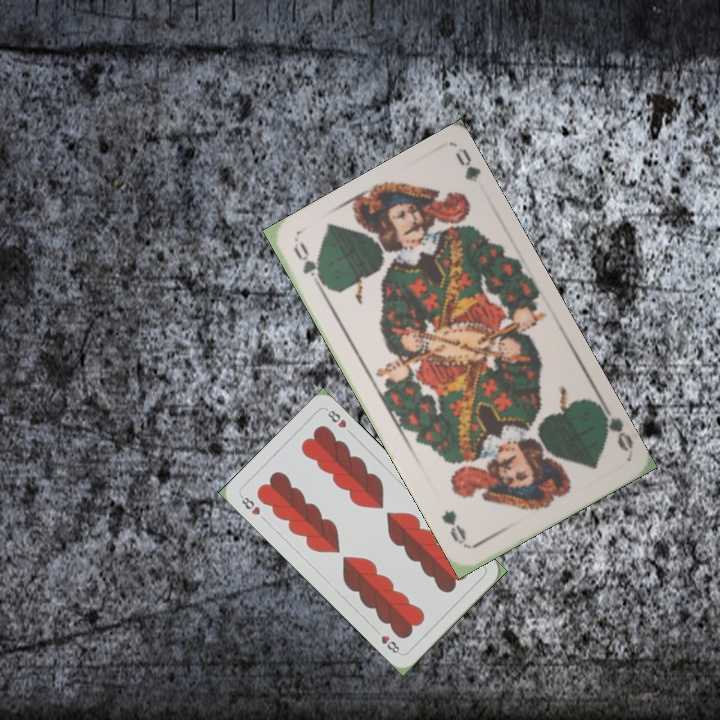GO: (289, 238, 330, 294), (596, 399, 636, 455)
H8: (236, 491, 263, 518)
